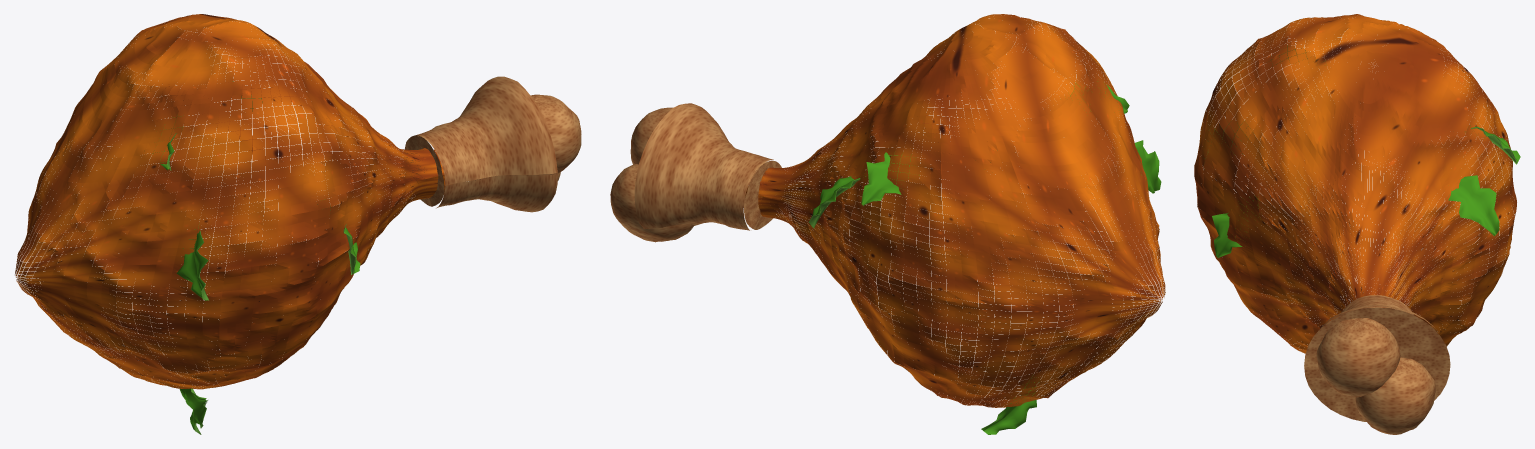
Rendered from chicken-drumstick.glb.
The picture shows the model from 3 angles, left to right: view 1: azimuth 30°, elevation 25°; view 2: azimuth 150°, elevation 25°; view 3: azimuth 270°, elevation 25°; orthographic projection. The views are drawn at different scales.
Parts seen in each view (by area): view 1: drumstick-meat-body, exposed-knuckle-bone, garnish-flecks; view 2: drumstick-meat-body, exposed-knuckle-bone, garnish-flecks; view 3: drumstick-meat-body, exposed-knuckle-bone, garnish-flecks.
Boxes of the visible parts, left/top/right/bottom form: drumstick-meat-body: left=15, top=14, right=445, bottom=389; exposed-knuckle-bone: left=404, top=76, right=581, bottom=212; garnish-flecks: left=144, top=81, right=360, bottom=434; drumstick-meat-body: left=745, top=14, right=1165, bottom=407; exposed-knuckle-bone: left=610, top=103, right=781, bottom=242; garnish-flecks: left=809, top=81, right=1161, bottom=434; drumstick-meat-body: left=1194, top=14, right=1516, bottom=353; exposed-knuckle-bone: left=1304, top=295, right=1450, bottom=434; garnish-flecks: left=1204, top=45, right=1520, bottom=258.
Bounding box in the file's own units: 0.1653 × 0.1155 × 0.0896.
Materials: 5 (2 with a texture image).
